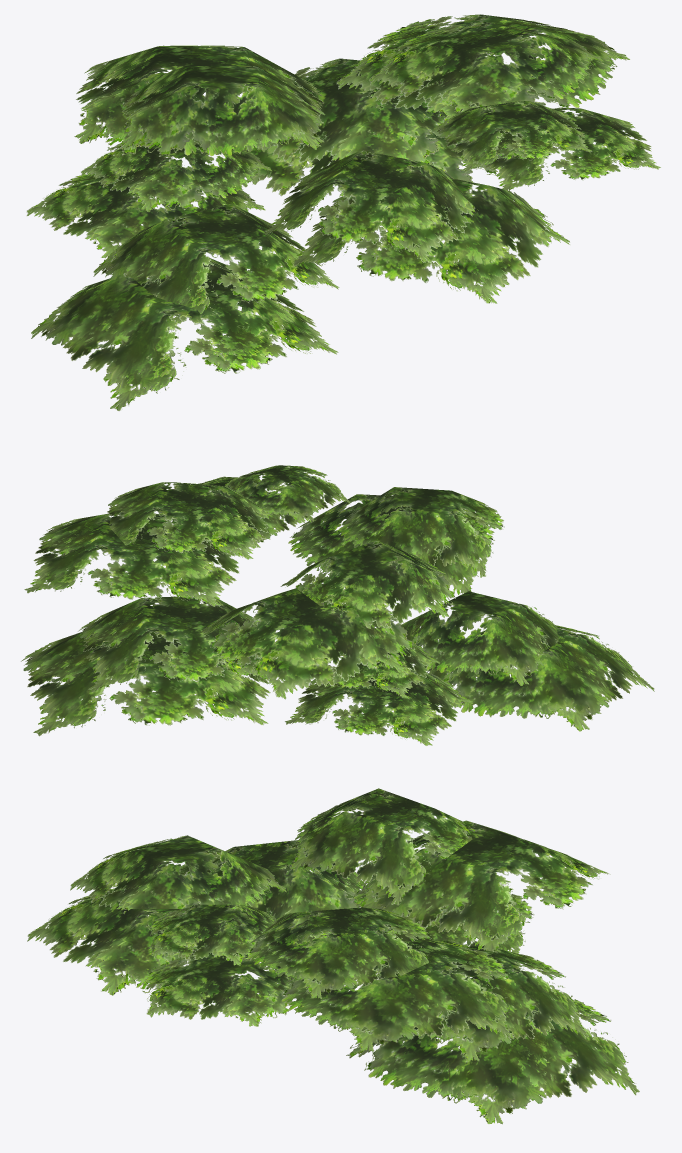
The model's file is tree_wide_200m_leaf.DAE.
3 renders of one model, top to bottom at view 1: azimuth 30°, elevation 25°; view 2: azimuth 150°, elevation 25°; view 3: azimuth 270°, elevation 25°, orthographic. The views are drawn at different scales.
Visible parts, largest first — view 1: Plane01-Pivot; view 2: Plane01-Pivot; view 3: Plane01-Pivot.
Part boxes in pixels (x1,y1,x2,y2): Plane01-Pivot: [26, 14, 660, 411]; Plane01-Pivot: [21, 465, 654, 745]; Plane01-Pivot: [27, 788, 639, 1124].
Bounding box in the file's own units: 277 × 85.21 × 264.
